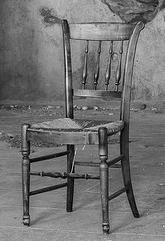obstacle: (21, 19, 143, 231)
